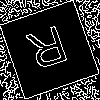R: (24, 25, 74, 80)
